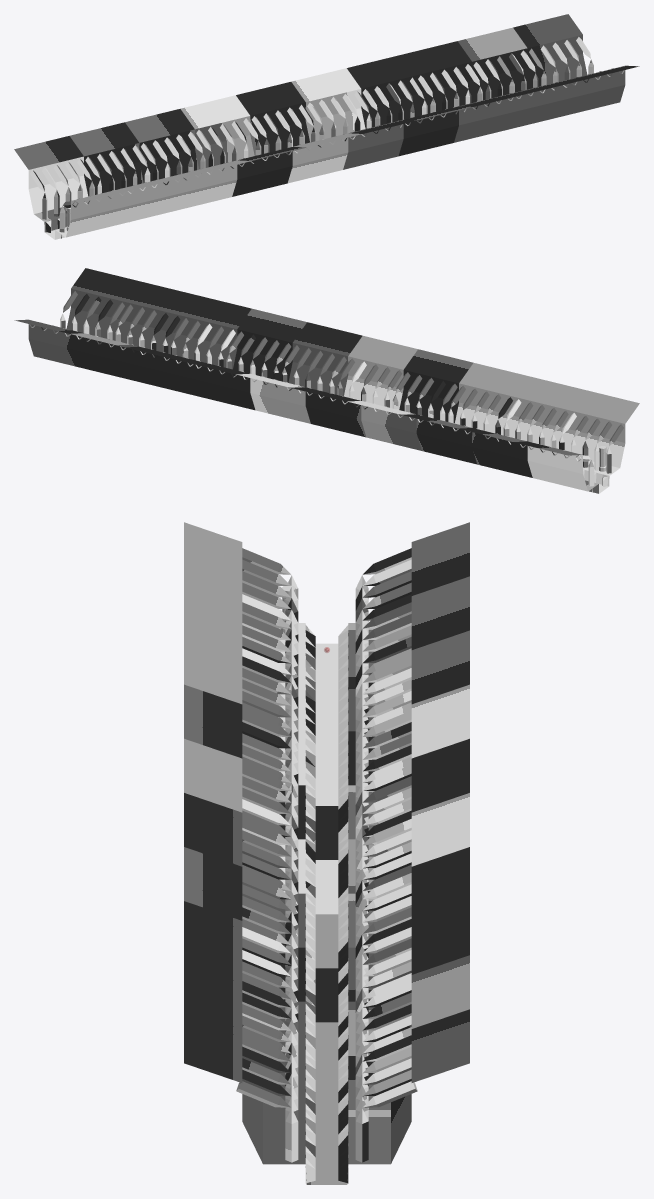
Rendered from Low Poly Environment 2 TEST 2.glb.
3 renders of one model, top to bottom at view 1: azimuth 30°, elevation 25°; view 2: azimuth 150°, elevation 25°; view 3: azimuth 270°, elevation 25°, orthographic. The views are drawn at different scales.
Visible parts, largest first — view 1: Cylinder; view 2: Cylinder; view 3: Cylinder.
Boxes of the visible parts, box(x1,y1,x2,y2) form: Cylinder: box(14, 14, 639, 239); Cylinder: box(14, 268, 639, 493); Cylinder: box(184, 522, 469, 1184).
Bounding box in the file's own units: 200 × 20.99 × 44.69.
Materials: 2 (2 with a texture image).
